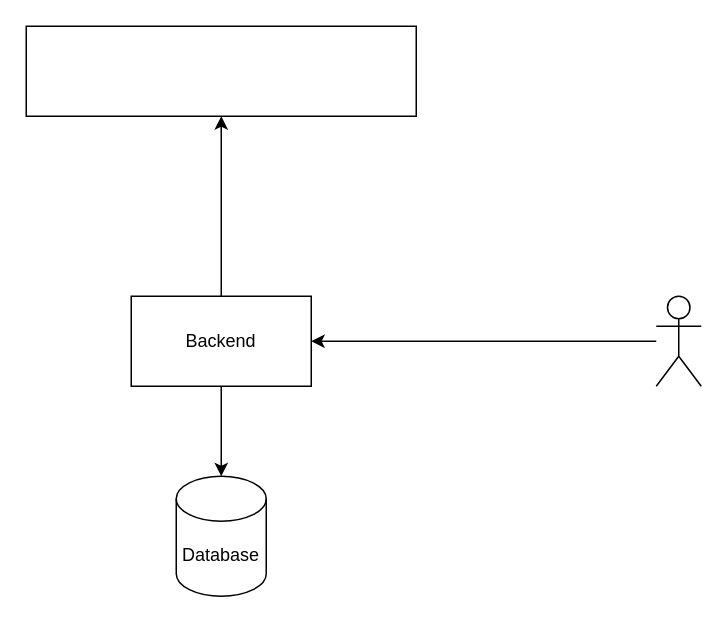
The diagram is 728 pixels wide and 623 high, and some of its shapes have lost their labels. Each missing label, with the centre of its shape:
"Actor" belongs at (678,340).
"API https://hgbrasil.com/apis/cotacao-acao/b3-brasil-bolsa-balcao-b3sa3" belongs at (220,70).
